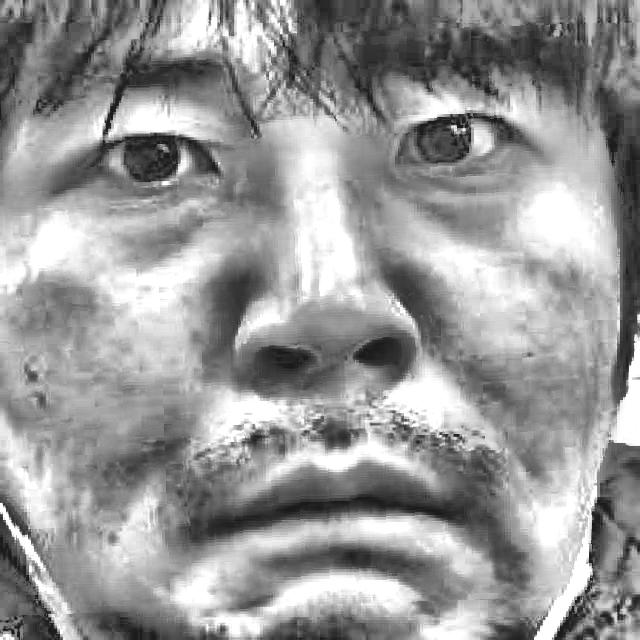fear: (3, 29, 589, 611)
